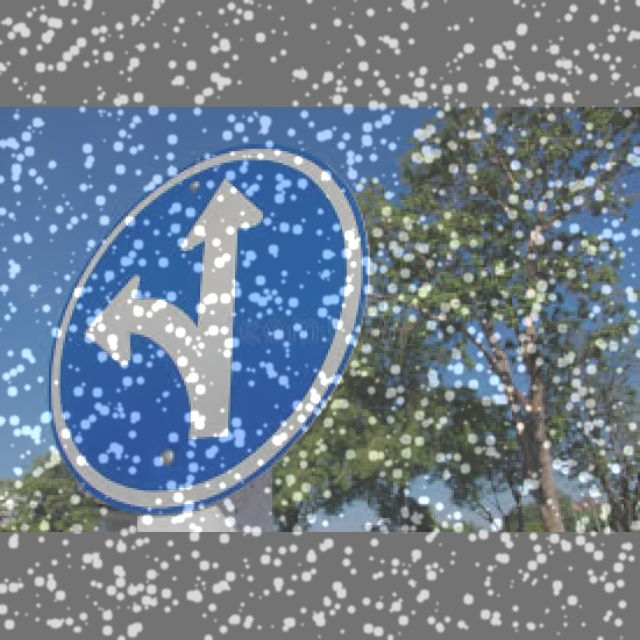Compulsory_Ahead_or_Turn_Left: (51, 144, 361, 498)
